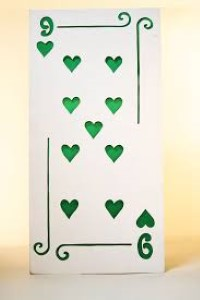NineOfHearts: (24, 4, 167, 276)
